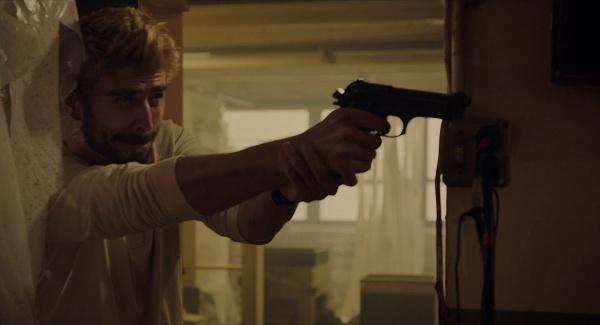Gun: (332, 77, 461, 139)
